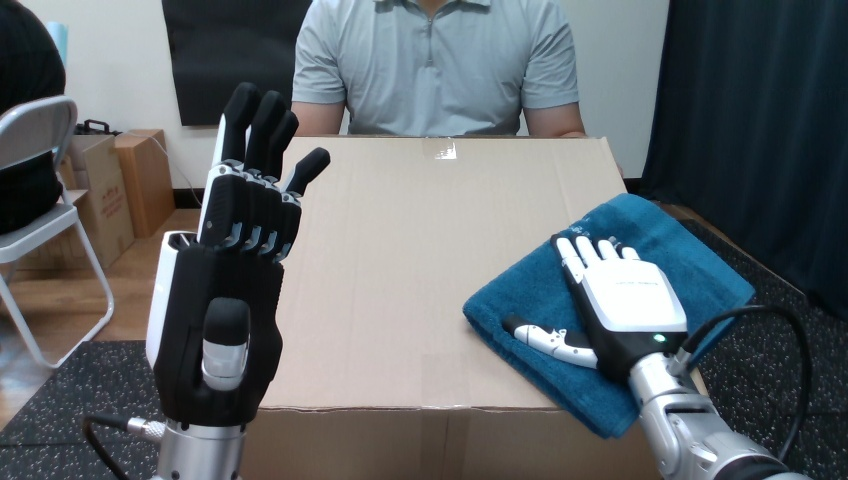left robot arm: (83, 83, 329, 479)
left robot hand: (83, 83, 329, 479)
right robot arm: (83, 83, 329, 479)
right robot hand: (83, 83, 329, 479)
